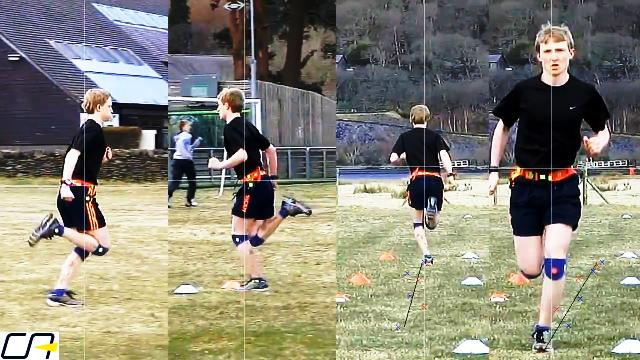berlari: (500, 17, 612, 360), (190, 80, 318, 304), (21, 88, 131, 307), (384, 82, 454, 272)
